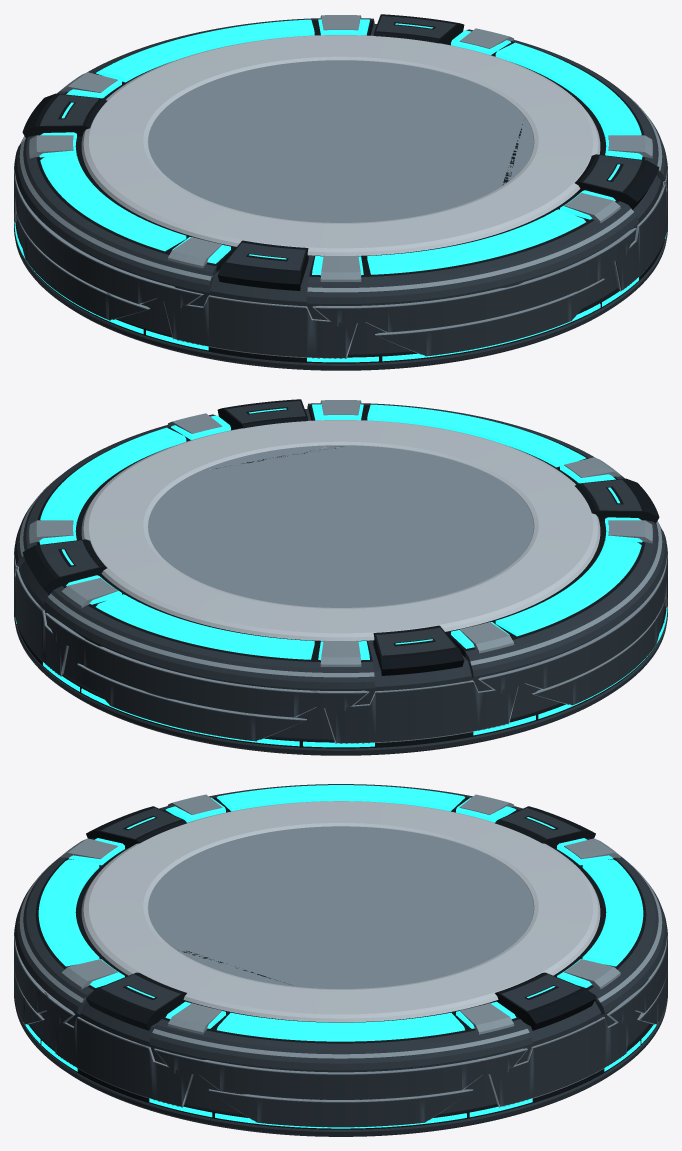
File: Striker.fbx
The picture shows the model from 3 angles, top to bottom: view 1: azimuth 30°, elevation 25°; view 2: azimuth 150°, elevation 25°; view 3: azimuth 270°, elevation 25°; orthographic projection.
Parts seen in each view (by area): view 1: SM_Puck_Striker_HighDetail; view 2: SM_Puck_Striker_HighDetail; view 3: SM_Puck_Striker_HighDetail.
Boxes of the visible parts, x1,y1,x2,y2 form: SM_Puck_Striker_HighDetail: (14, 14, 667, 370); SM_Puck_Striker_HighDetail: (14, 399, 667, 755); SM_Puck_Striker_HighDetail: (14, 784, 667, 1136).
Bounding box in the file's own units: 82.7 × 82.7 × 13.4.
